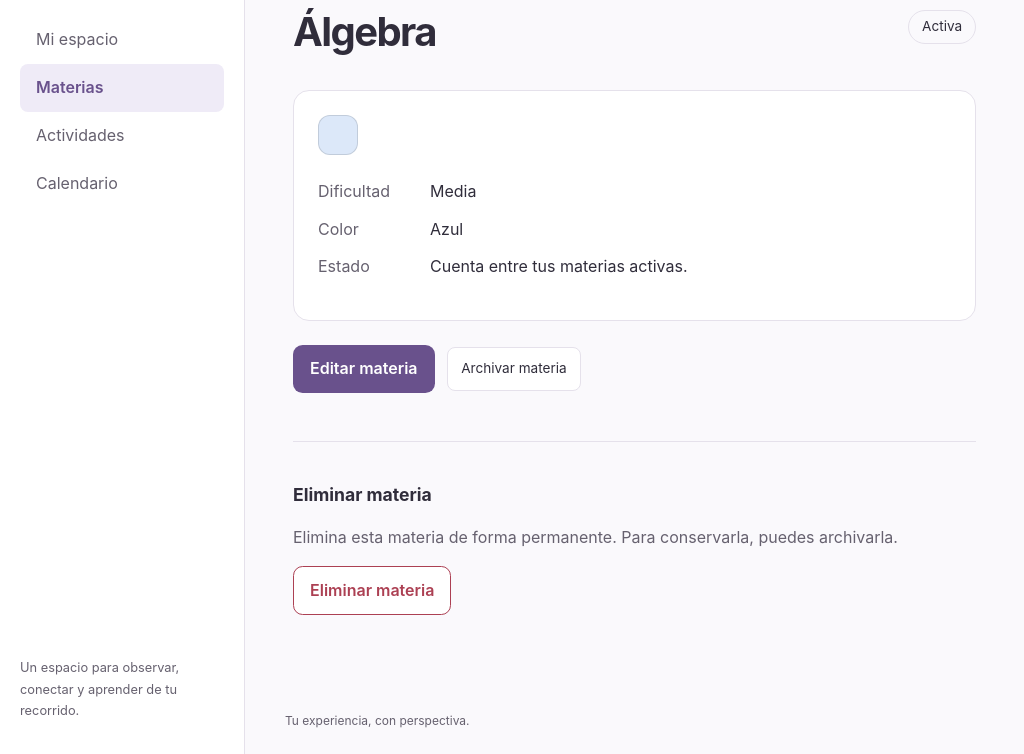
Test: Subjects routes and state › requires explicit irreversible confirmation and allows cancelling without DELETE
This screenshot has width=1024, height=754.
(page scrolled)
Click the button "Eliminar materia": (372,591) 293,566 -> 451,615
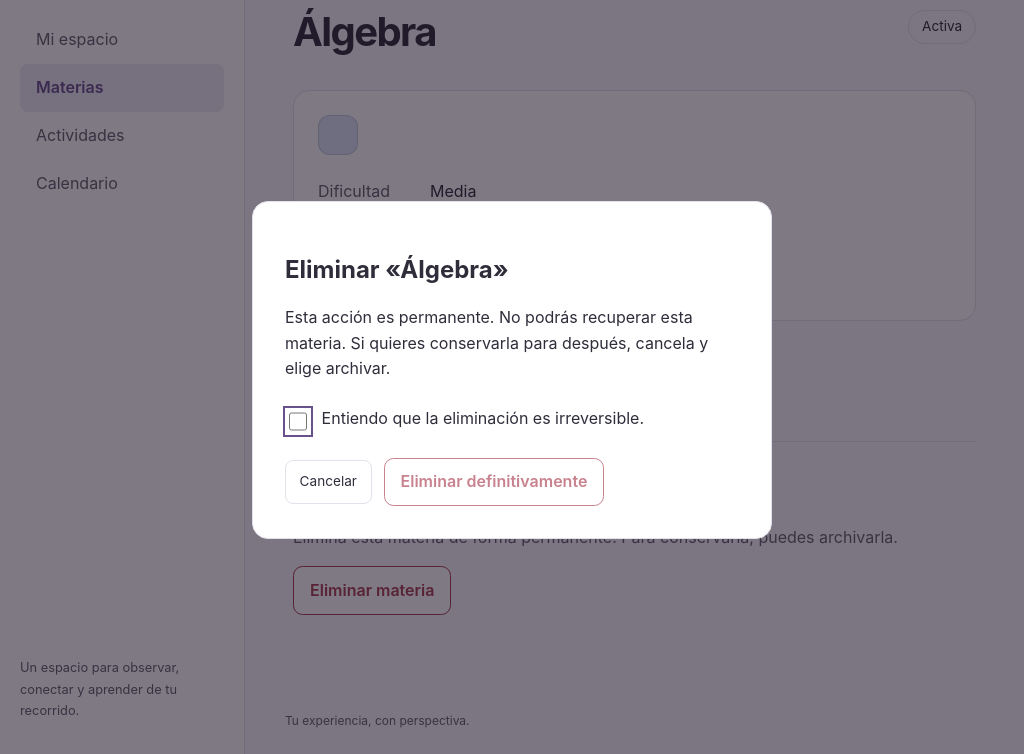
Now the button "Eliminar definitivamente" is disabled, box 384,458 -> 604,506
Click the button "Cancelar": (328,482) 285,460 -> 372,504
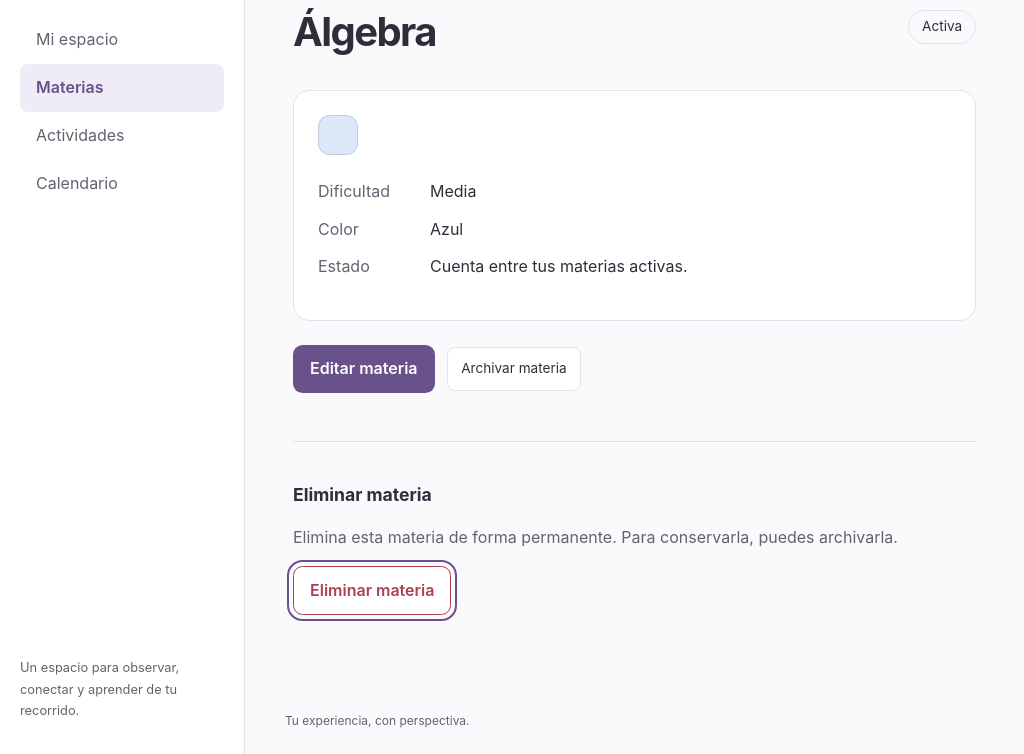
Click the button "Eliminar materia": (372,591) 293,566 -> 451,615
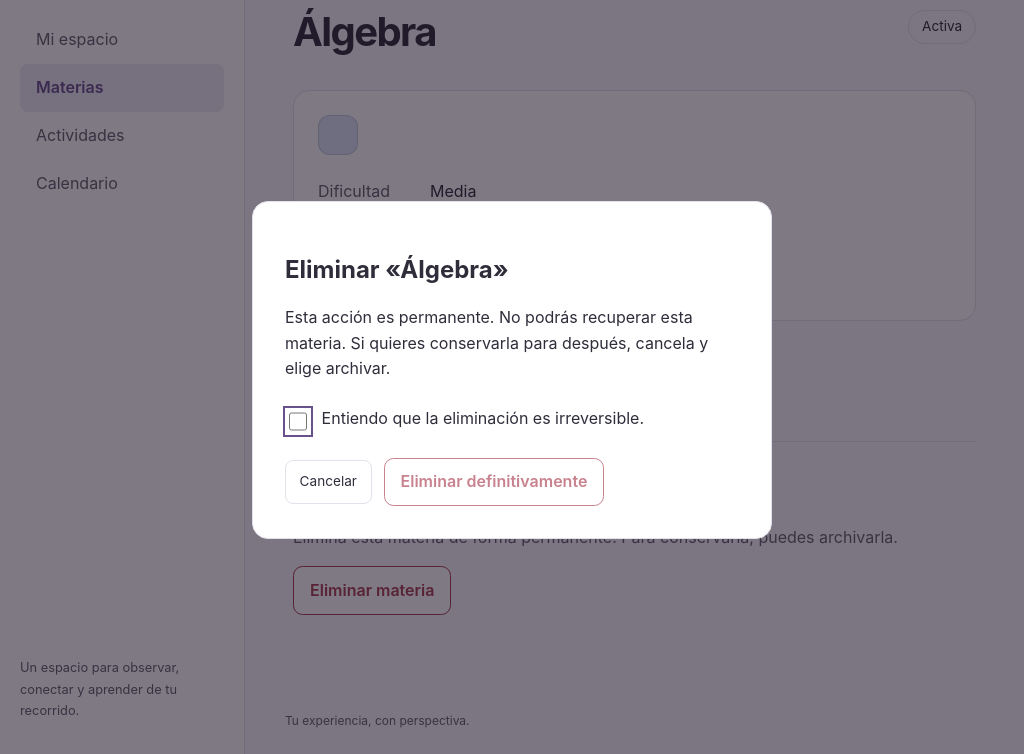
Click the checkbox: (298,421) 289,412 -> 307,431
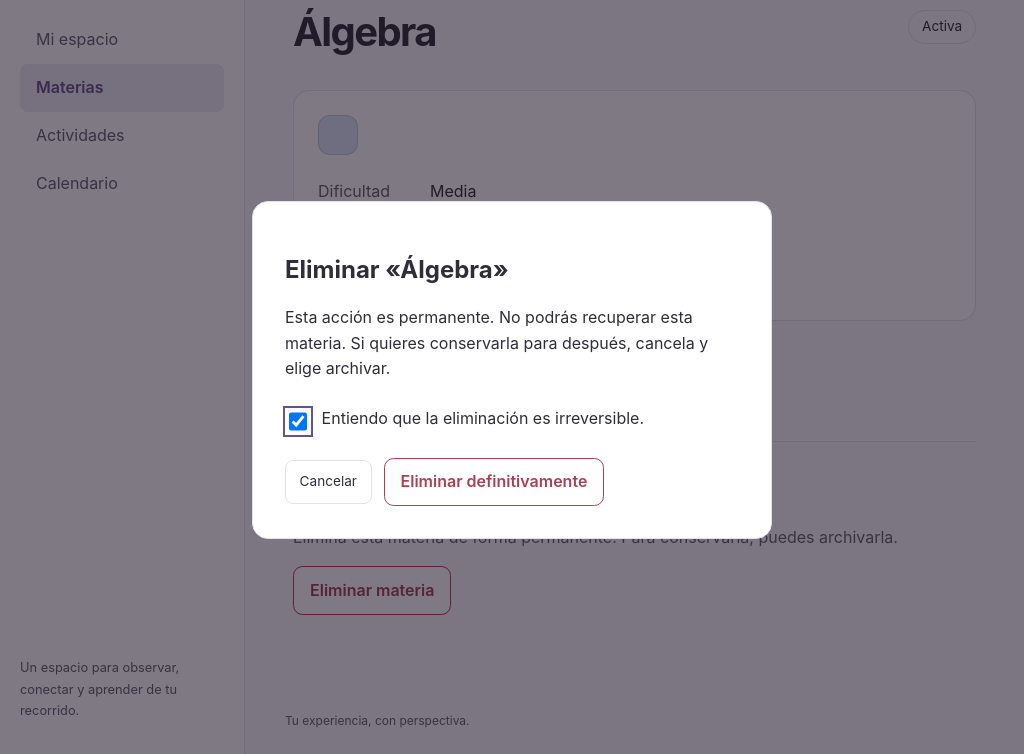
Click the button "Eliminar definitivamente": (494,482) 384,458 -> 604,506
(page scrolled)
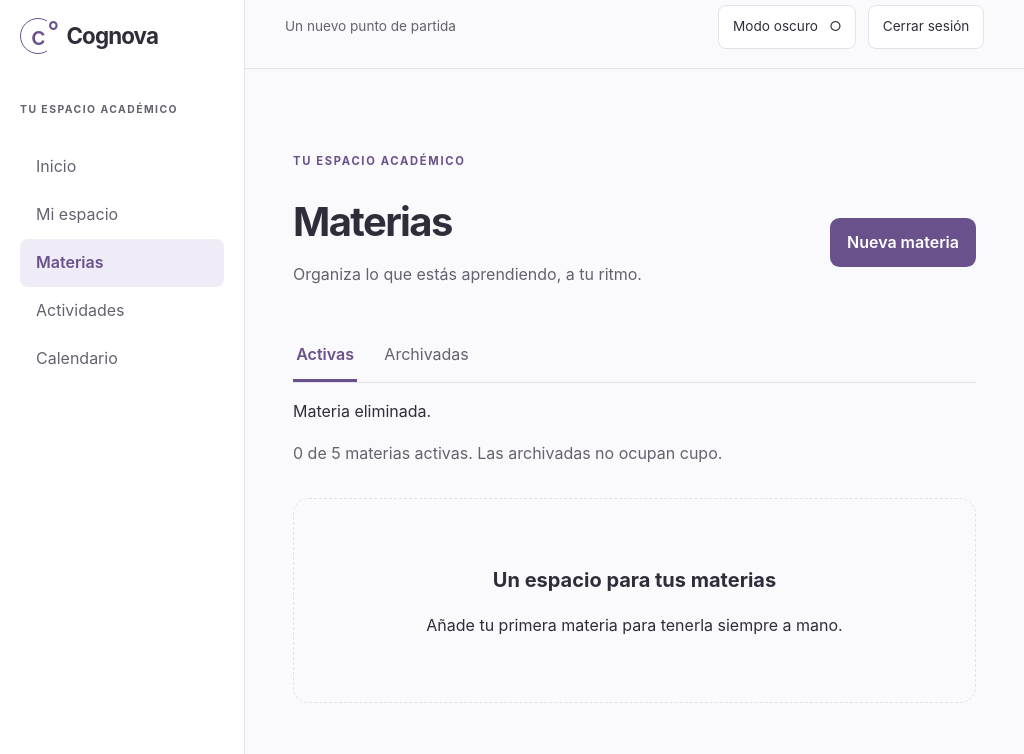
Now the text "Materia eliminada." is shown, box 293,401 -> 431,421
Now the heading "Un espacio para tus materias" is shown, box 493,568 -> 776,592
